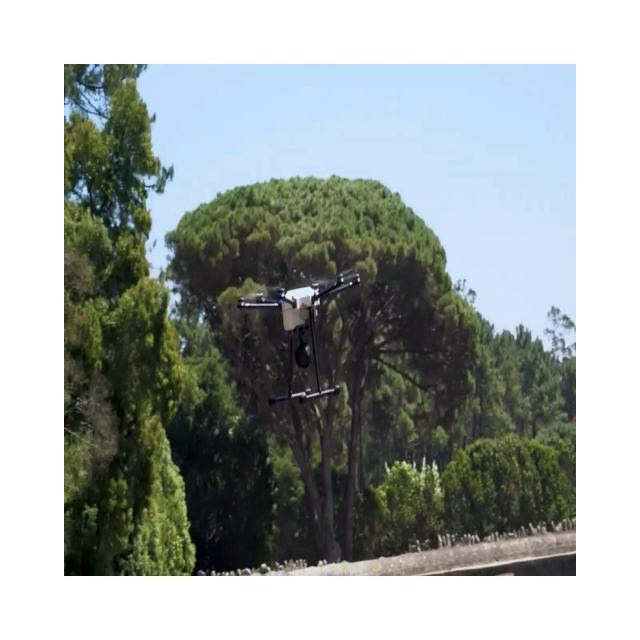drone: (236, 267, 361, 407)
